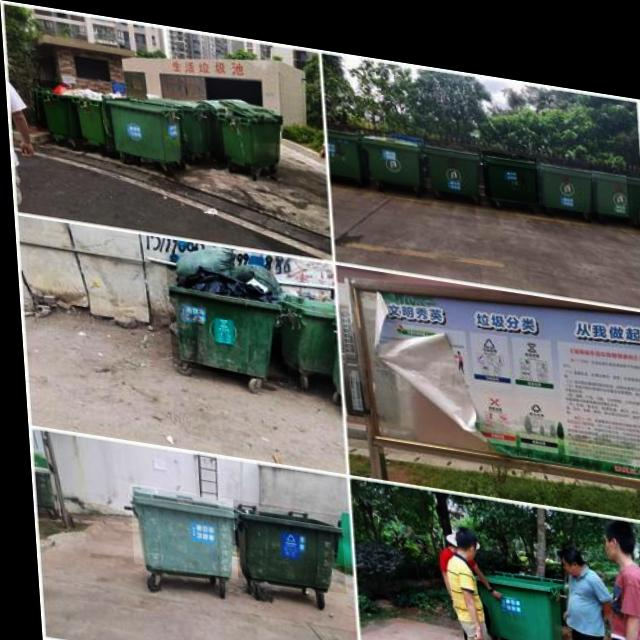garbage_bin: (227, 493, 339, 585), (122, 480, 231, 573), (469, 551, 561, 637), (102, 91, 179, 157), (214, 89, 283, 159), (274, 284, 333, 363), (359, 119, 419, 173), (422, 129, 479, 181), (481, 135, 538, 187), (538, 145, 591, 195), (325, 116, 362, 171), (177, 94, 210, 148), (590, 151, 627, 198)
overflow: (161, 237, 284, 375), (66, 81, 114, 141), (32, 78, 75, 135)
